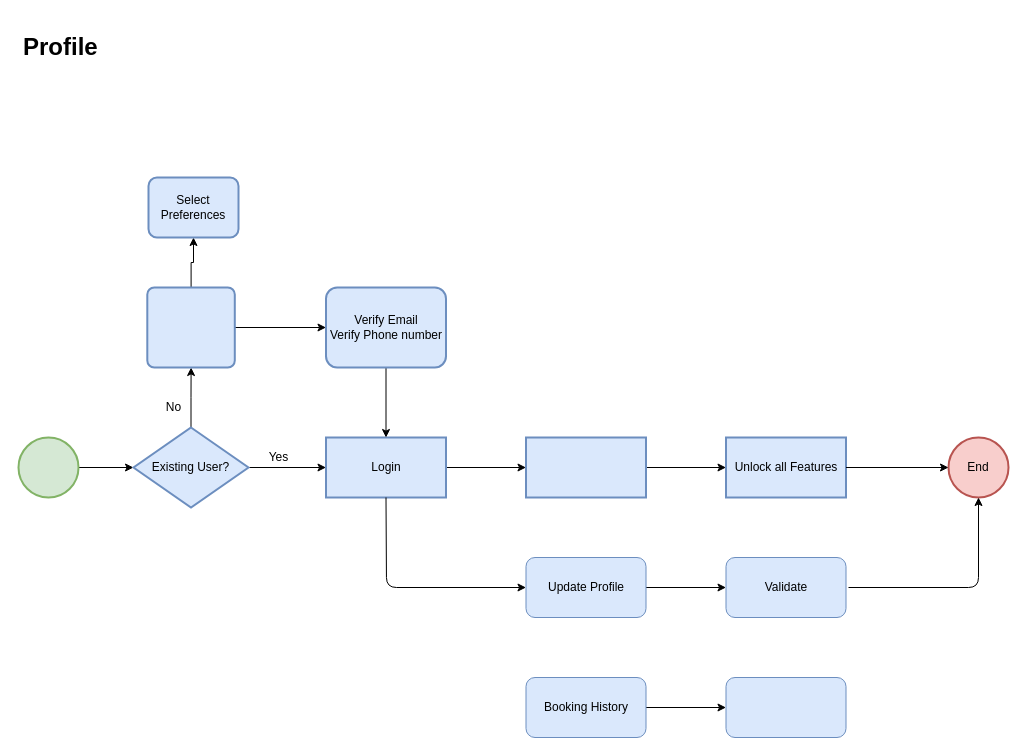
The diagram is 1026 pixels wide and 755 high, and some of its shapes have lost their labels. The shapes that lost their labels are listed below. From the top down, each one's centre as x and y in pixels, then its label:
At point 190,327: "Create Profile".
At point 48,467: "Start".
At point 585,467: "Check in".
At point 785,707: "View past stay and activities".
